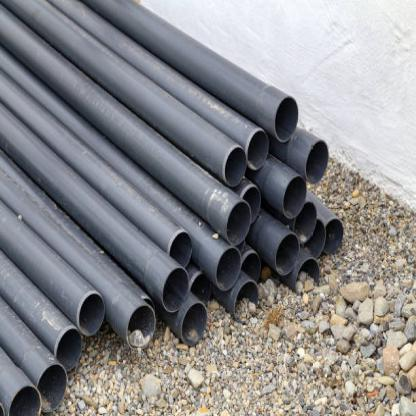pipe: (37, 364, 68, 412), (126, 304, 156, 350), (162, 267, 189, 313), (226, 200, 251, 246), (216, 247, 242, 291), (78, 293, 104, 336), (182, 302, 208, 345), (56, 328, 82, 371), (274, 96, 298, 142), (275, 233, 300, 276), (305, 140, 329, 184), (234, 280, 259, 322), (8, 385, 42, 415), (282, 176, 306, 218), (293, 201, 317, 243), (224, 146, 247, 187), (168, 231, 192, 268), (247, 130, 269, 170), (296, 258, 320, 294), (304, 218, 326, 257), (323, 219, 344, 254), (242, 186, 260, 223), (240, 251, 262, 280)
